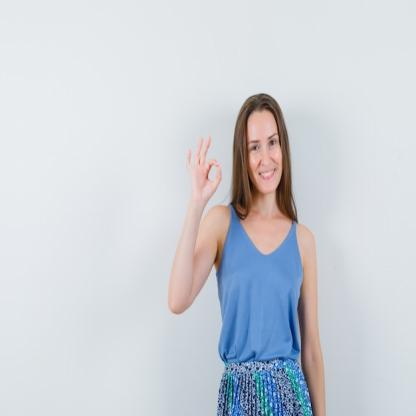ok: (183, 130, 224, 208)
